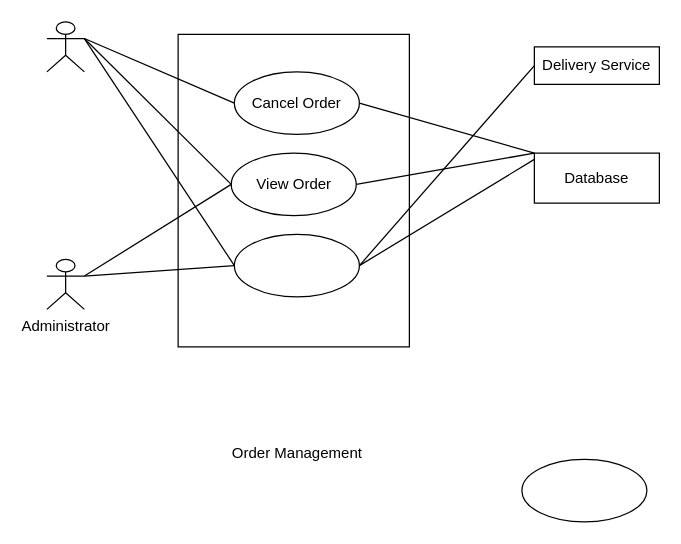
Some shapes in this 681 by 544 pixel diagram are drawn without their labels. Each missing label, with the centre of its shape:
"Cart" belongs at [584,490].
"Customer" belongs at [65,46].
"Track Order" belongs at [296,265].
